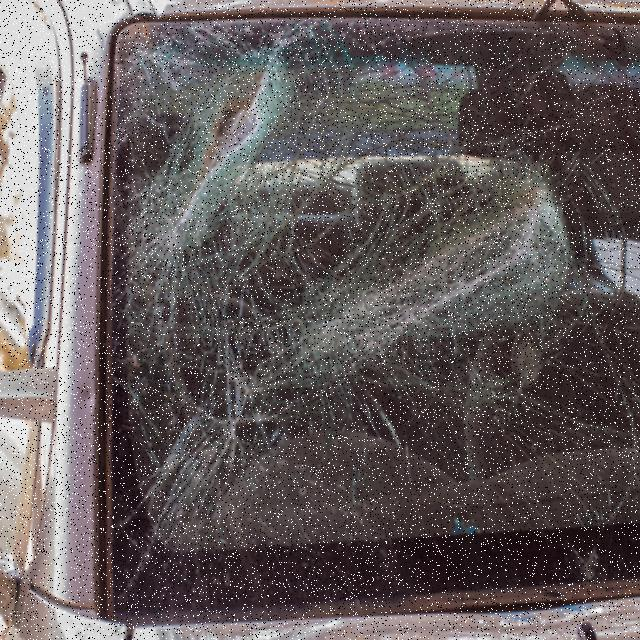Front-Windscreen-Damage: (88, 20, 639, 638)
